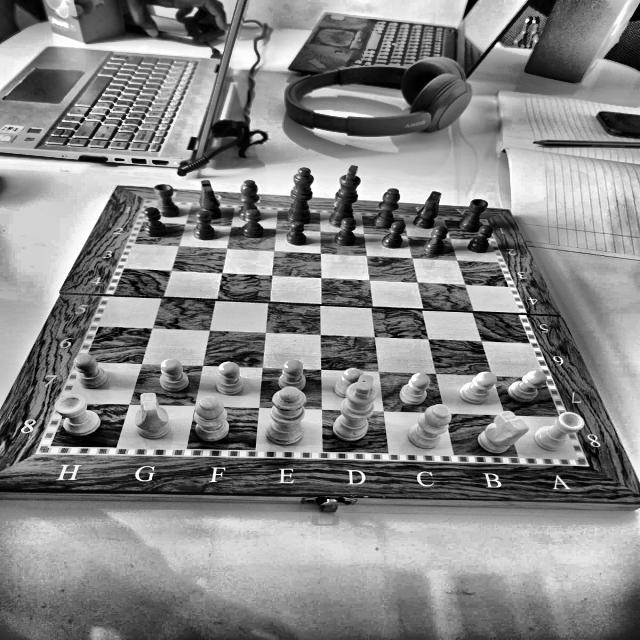black-bishop: (232, 178, 274, 219), (378, 186, 404, 233)
black-king: (324, 163, 367, 226)
black-knight: (189, 178, 230, 219), (415, 190, 447, 230)
black-pawn: (284, 215, 312, 259), (468, 223, 502, 258), (427, 224, 458, 260), (137, 206, 164, 244), (382, 219, 414, 251), (332, 218, 362, 252), (238, 211, 267, 245), (192, 212, 219, 246)
black-queen: (287, 165, 321, 226)
black-rook: (153, 182, 185, 218), (462, 194, 486, 235)
white-bishop: (192, 393, 238, 448), (418, 408, 459, 467)
white-king: (340, 378, 380, 454)
white-knight: (130, 390, 181, 442), (479, 413, 530, 458)
white-pawn: (460, 361, 502, 412), (211, 362, 257, 407), (391, 364, 434, 410), (70, 351, 116, 391), (512, 369, 563, 403), (156, 357, 200, 395), (270, 360, 312, 387), (335, 362, 357, 397)
white-queen: (268, 387, 321, 457)
white-rook: (45, 390, 100, 443), (540, 412, 590, 460)
